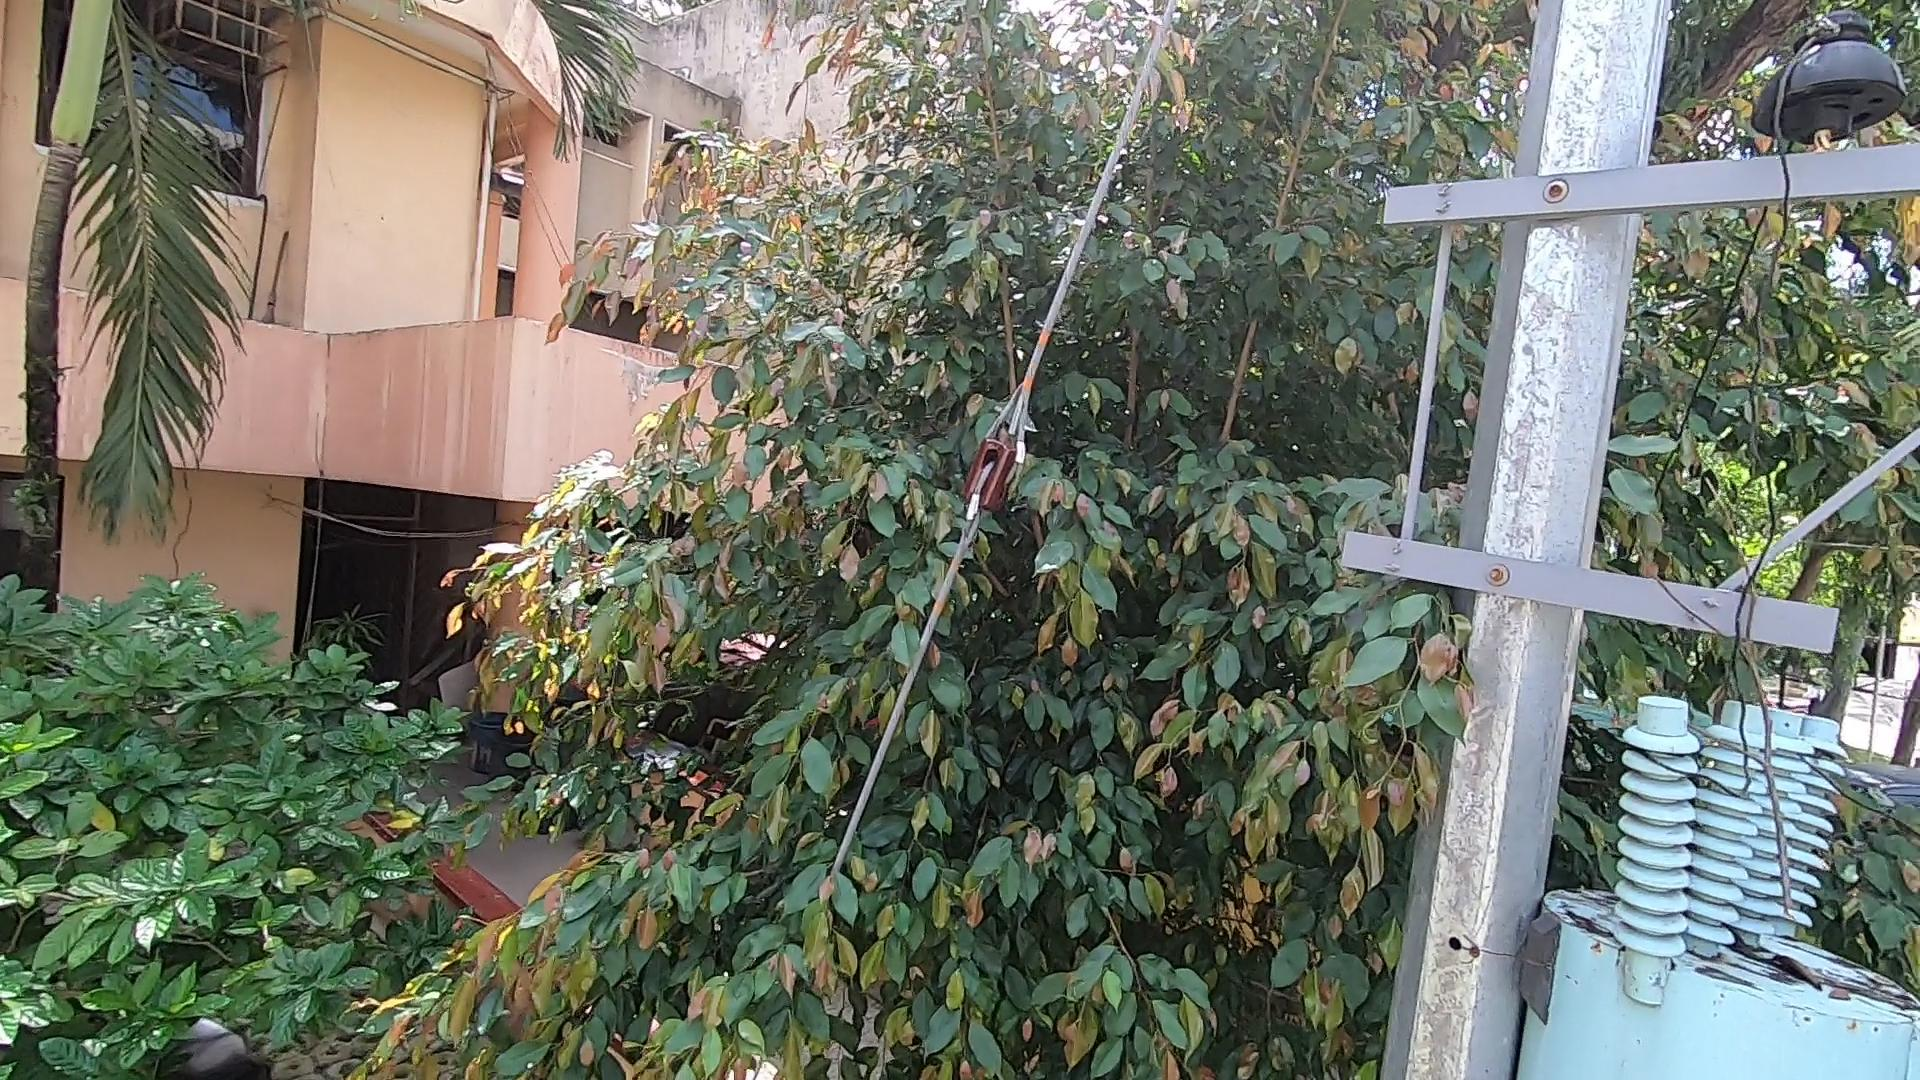leaf: (1713, 910, 1826, 996)
tree branch: (1622, 483, 1815, 919)
